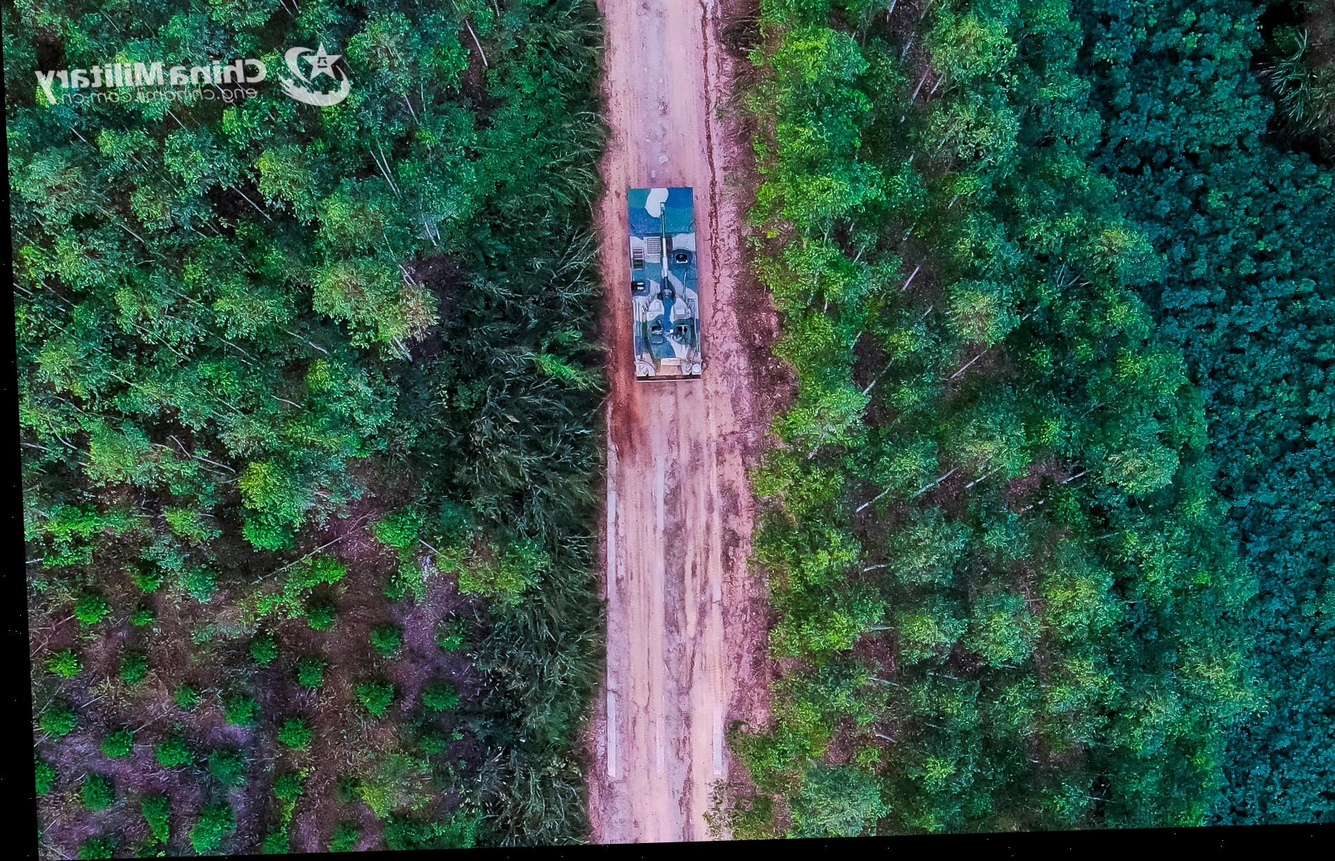armored_car: (599, 173, 721, 398)
